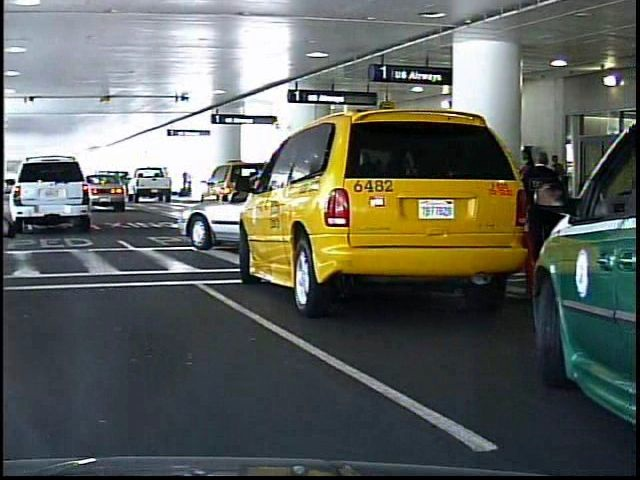person: (519, 149, 564, 280), (506, 146, 535, 260), (184, 168, 191, 198)
